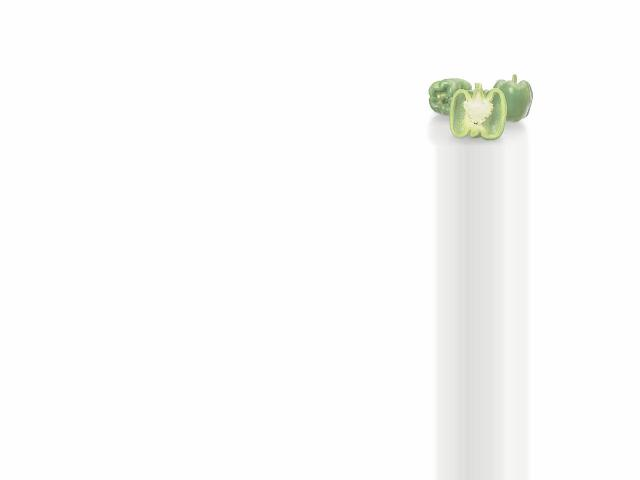bell_pepper: (424, 74, 476, 120)
